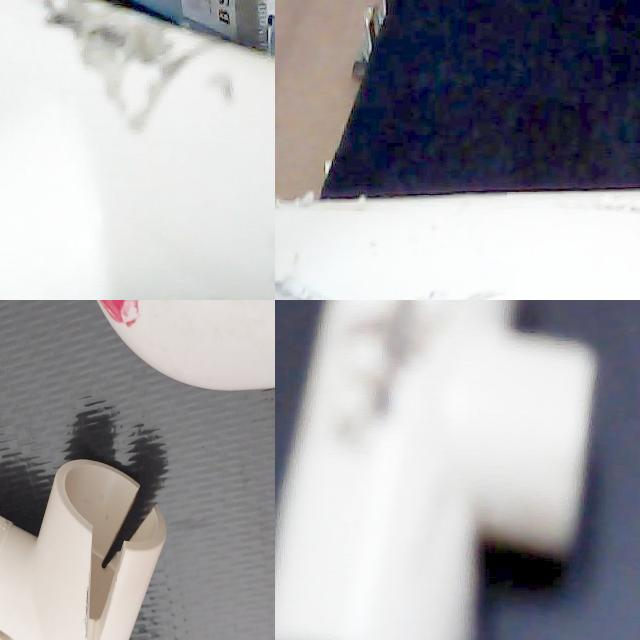Defective: (0, 0, 274, 114), (324, 300, 470, 476), (507, 192, 640, 300), (275, 192, 385, 300), (0, 0, 120, 71), (370, 254, 513, 300)
L Joint: (49, 563, 228, 640)
T Joint: (275, 300, 590, 640), (275, 191, 640, 300)
